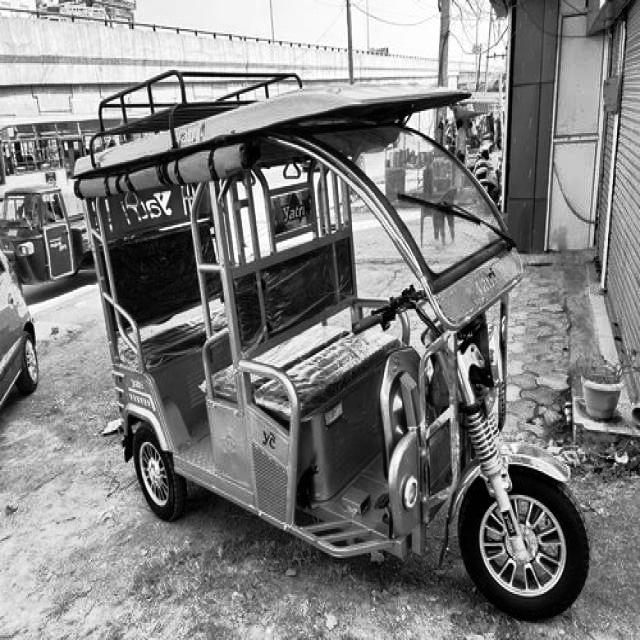Toto: (75, 84, 595, 622)
